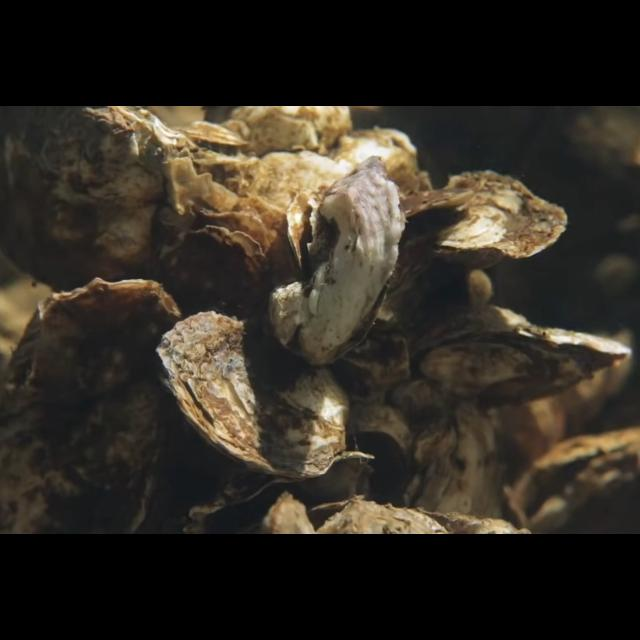Oyster-Closed: (0, 278, 184, 534), (0, 106, 220, 286), (155, 310, 353, 480), (268, 156, 406, 368), (387, 170, 568, 298), (398, 400, 507, 534), (156, 225, 270, 327)
Oyster-Open: (410, 304, 630, 410), (191, 451, 375, 535), (510, 428, 640, 534), (170, 119, 248, 169)
